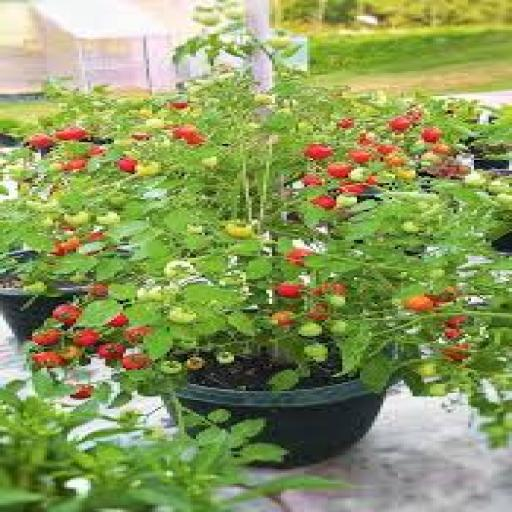tomato: (53, 304, 81, 327), (442, 344, 471, 362), (284, 248, 313, 266), (33, 352, 67, 367), (404, 296, 435, 312), (123, 326, 152, 343), (167, 308, 196, 325), (120, 354, 152, 369), (74, 329, 102, 346), (33, 329, 61, 346), (305, 143, 333, 159), (226, 223, 254, 239), (311, 283, 345, 296), (328, 162, 354, 179), (59, 345, 84, 362), (276, 283, 304, 298), (97, 344, 125, 359), (27, 134, 55, 149), (56, 127, 87, 140), (305, 344, 327, 362), (308, 303, 330, 321), (267, 36, 292, 51), (349, 150, 374, 165), (65, 212, 90, 227), (173, 125, 198, 140), (270, 312, 295, 327), (390, 116, 412, 133), (158, 361, 184, 375), (416, 363, 438, 378), (299, 322, 321, 337), (463, 173, 485, 188), (71, 384, 93, 399), (135, 162, 160, 175), (311, 196, 336, 209), (62, 159, 87, 172), (340, 184, 368, 195), (24, 281, 46, 295), (106, 313, 128, 327), (384, 153, 406, 167), (422, 127, 441, 143), (375, 144, 400, 156), (445, 315, 468, 328), (431, 143, 453, 156), (428, 383, 450, 396), (97, 212, 119, 225), (349, 168, 368, 183), (118, 157, 137, 172), (185, 356, 204, 371), (395, 169, 418, 181), (401, 221, 421, 234), (357, 132, 377, 145), (88, 283, 108, 296), (255, 93, 275, 106), (331, 320, 348, 335), (442, 328, 465, 339), (144, 118, 166, 129), (302, 175, 324, 186), (337, 196, 359, 207), (217, 352, 234, 364), (328, 296, 345, 307), (202, 157, 219, 168), (337, 118, 354, 129), (167, 102, 190, 110), (88, 146, 105, 156), (132, 132, 152, 140)
